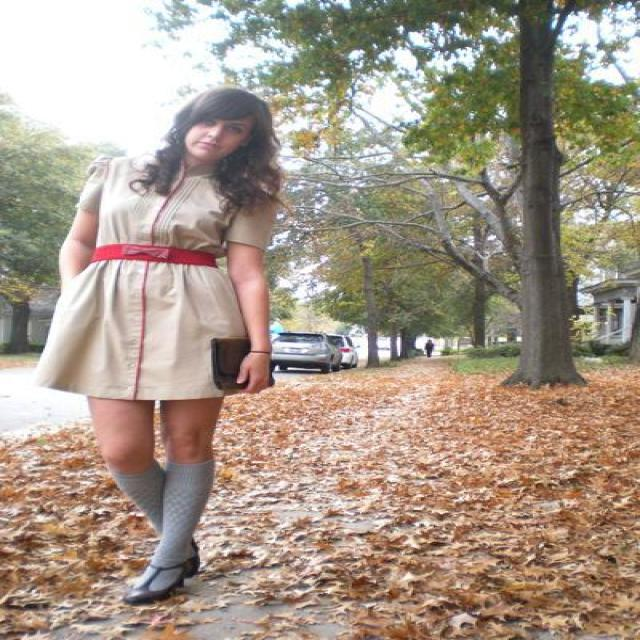bag: (211, 321, 261, 396)
dress: (40, 158, 269, 412)
shoe: (134, 551, 180, 594)
